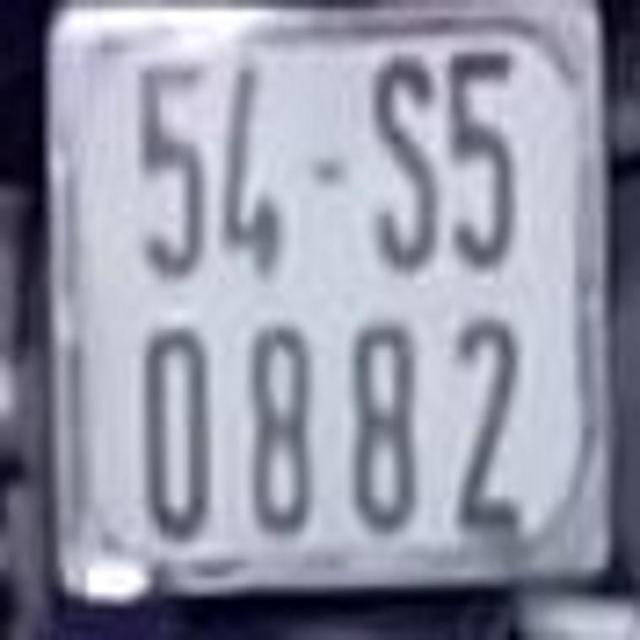0: (143, 324, 211, 534)
2: (453, 321, 526, 528)
4: (220, 69, 284, 272)
5: (447, 49, 521, 266), (140, 57, 204, 272)
8: (246, 320, 316, 530), (352, 319, 420, 526)
S: (366, 48, 441, 274)
